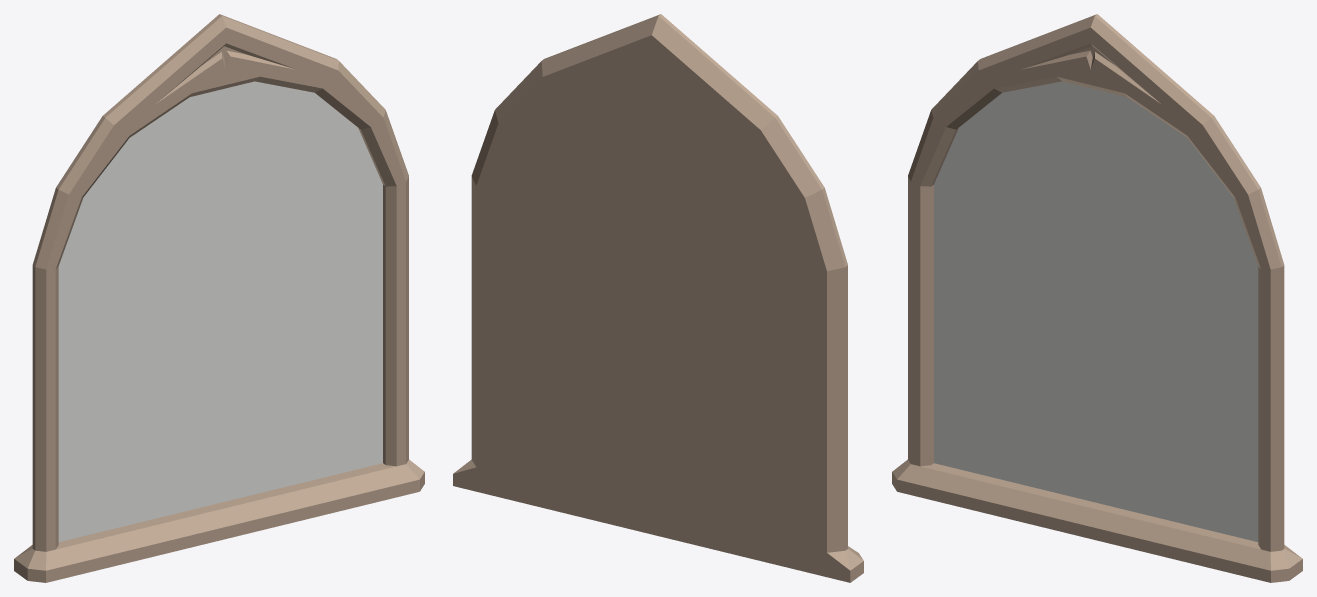
The model's file is Prop_Bedroom_Dresser_Mirror.fbx.
The picture shows the model from 3 angles, left to right: view 1: azimuth 30°, elevation 25°; view 2: azimuth 150°, elevation 25°; view 3: azimuth 330°, elevation 25°; orthographic projection.
Visible parts, largest first — view 1: object1.010; view 2: object1.010; view 3: object1.010.
Boxes of the visible parts, box(x1,y1,x2,y2) form: object1.010: box(14, 14, 424, 582); object1.010: box(453, 14, 863, 582); object1.010: box(892, 14, 1302, 582).
Size of the model in its own units: 85 by 105 by 7.5.
